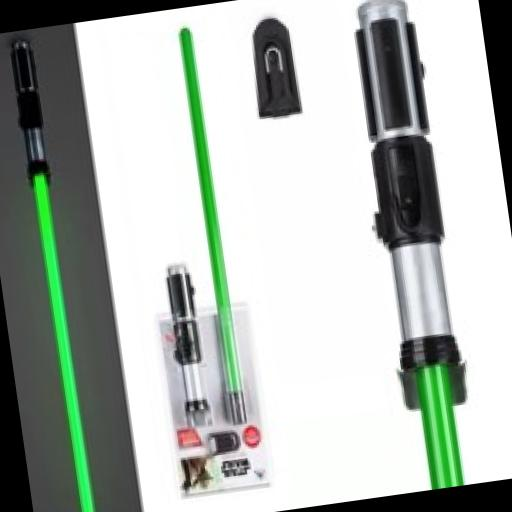lightsaber: (338, 0, 475, 416), (0, 35, 107, 512), (160, 262, 212, 432)
